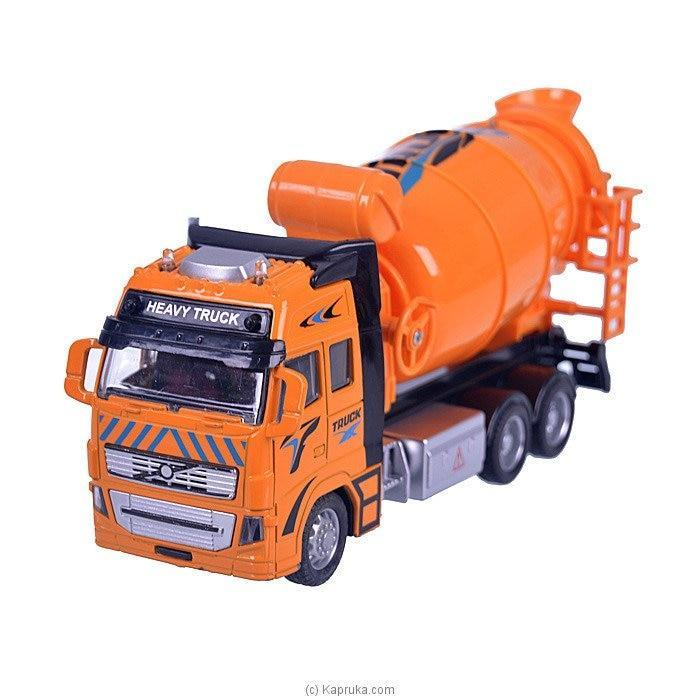truck: (61, 85, 639, 587)
